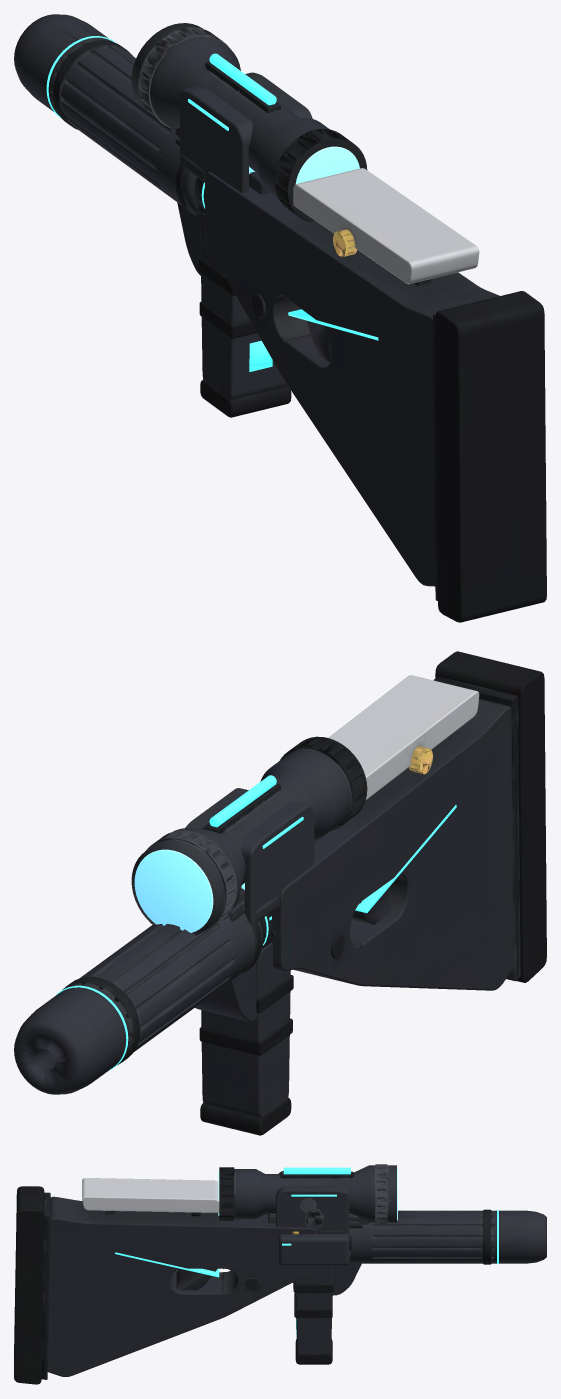
Rendered from parts.glb.
3 views of the same model, one above another, from view 1: azimuth 30°, elevation 25°; view 2: azimuth 150°, elevation 25°; view 3: azimuth 270°, elevation 25° (orthographic). The views are drawn at different scales.
Parts seen in each view (by area): view 1: hstk_body.004, sup_mount.001, x3_base.001, vg_clamp.001, holo_base.001, p_x3_lens_x3_lens_r, p_x3_glow_x3_fiber, ag_clamp.001; view 2: hstk_body.004, sup_mount.001, x3_base.001, vg_clamp.001, holo_base.001, p_x3_lens_x3_lens_f, ag_clamp.001, p_x3_glow_x3_fiber, p_hstk_glow_hstk_glow, lstk_tube.001; view 3: hstk_body.004, sup_mount.001, x3_base.001, vg_clamp.001, holo_base.001, las_clamp.001, ag_clamp.001, lstk_tube.001, p_x3_glow_x3_fiber, p_hstk_glow_hstk_glow, dot_base.001.
Part boxes in pixels (bbox=[...]): hstk_body.004: bbox=[205, 168, 546, 622]; sup_mount.001: bbox=[14, 14, 198, 215]; x3_base.001: bbox=[131, 23, 367, 222]; vg_clamp.001: bbox=[198, 212, 291, 417]; holo_base.001: bbox=[180, 72, 312, 192]; p_x3_lens_x3_lens_r: bbox=[295, 146, 359, 183]; p_x3_glow_x3_fiber: bbox=[209, 53, 276, 105]; ag_clamp.001: bbox=[177, 202, 200, 275]; hstk_body.004: bbox=[271, 651, 546, 990]; sup_mount.001: bbox=[14, 913, 272, 1094]; x3_base.001: bbox=[131, 736, 367, 935]; vg_clamp.001: bbox=[199, 930, 293, 1135]; holo_base.001: bbox=[185, 788, 314, 923]; p_x3_lens_x3_lens_f: bbox=[134, 849, 213, 932]; ag_clamp.001: bbox=[195, 962, 256, 1021]; p_x3_glow_x3_fiber: bbox=[209, 775, 276, 827]; p_hstk_glow_hstk_glow: bbox=[355, 805, 456, 913]; lstk_tube.001: bbox=[271, 889, 391, 928]; hstk_body.004: bbox=[14, 1178, 317, 1384]; sup_mount.001: bbox=[349, 1209, 546, 1264]; x3_base.001: bbox=[219, 1164, 396, 1224]; vg_clamp.001: bbox=[293, 1265, 333, 1364]; holo_base.001: bbox=[276, 1170, 349, 1234]; las_clamp.001: bbox=[279, 1231, 351, 1265]; ag_clamp.001: bbox=[332, 1262, 362, 1295]; lstk_tube.001: bbox=[176, 1268, 217, 1290]; p_x3_glow_x3_fiber: bbox=[283, 1167, 350, 1174]; p_hstk_glow_hstk_glow: bbox=[115, 1252, 219, 1277]; dot_base.001: bbox=[304, 1209, 323, 1228].
Bounding box in the file's own units: 0.044 × 0.148 × 0.3479.
Materials: 3 (1 with a texture image).
